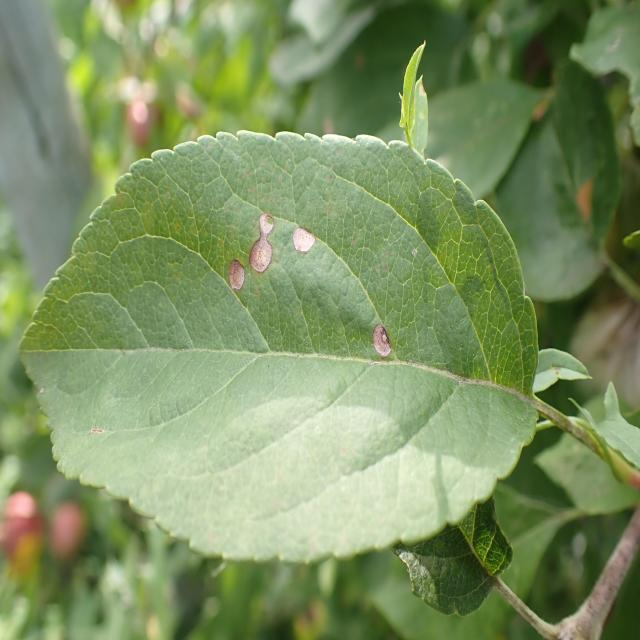frog-eye-leaf-spot: (18, 128, 540, 566)
